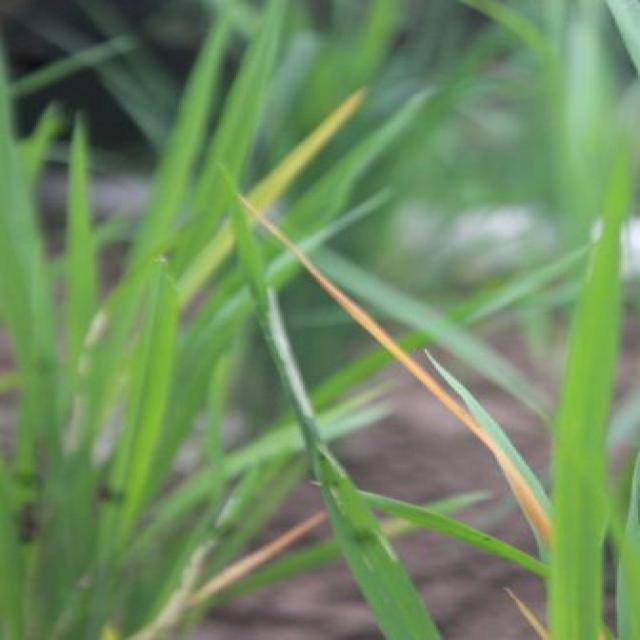Tungro: (273, 210, 561, 550)
